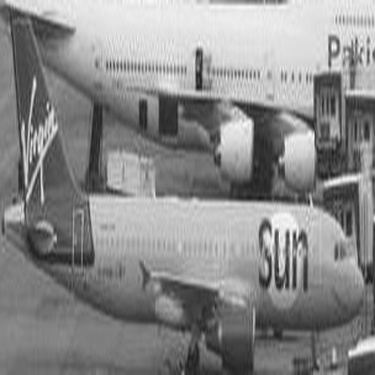airplane: (1, 7, 369, 373), (1, 10, 371, 192)
